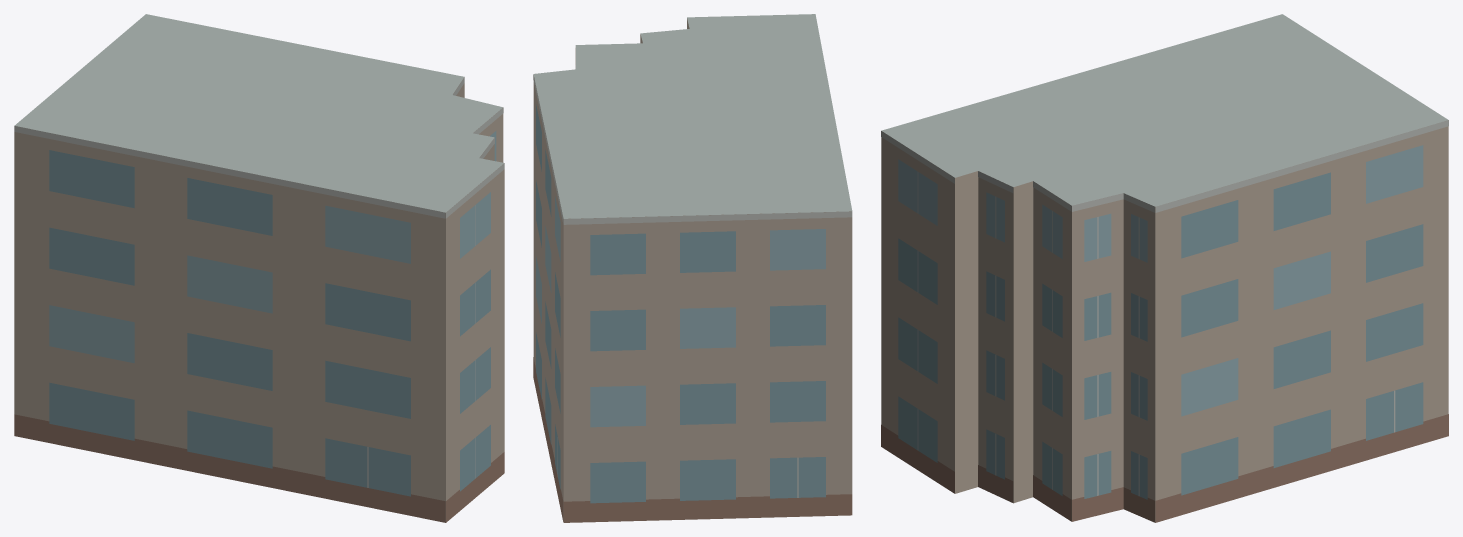
The model's file is survey-upis-32499906.glb.
The picture shows the model from 3 angles, left to right: view 1: azimuth 30°, elevation 25°; view 2: azimuth 150°, elevation 25°; view 3: azimuth 270°, elevation 25°; orthographic projection. The views are drawn at different scales.
Visible parts, largest first — view 1: survey-upis-32499906.tmp; view 2: survey-upis-32499906.tmp; view 3: survey-upis-32499906.tmp.
Boxes of the visible parts, x1,y1,x2,y2 form: survey-upis-32499906.tmp: [14, 14, 504, 522]; survey-upis-32499906.tmp: [533, 14, 852, 522]; survey-upis-32499906.tmp: [881, 14, 1448, 522].
Bounding box in the file's own units: 16.23 × 12.4 × 20.19.
